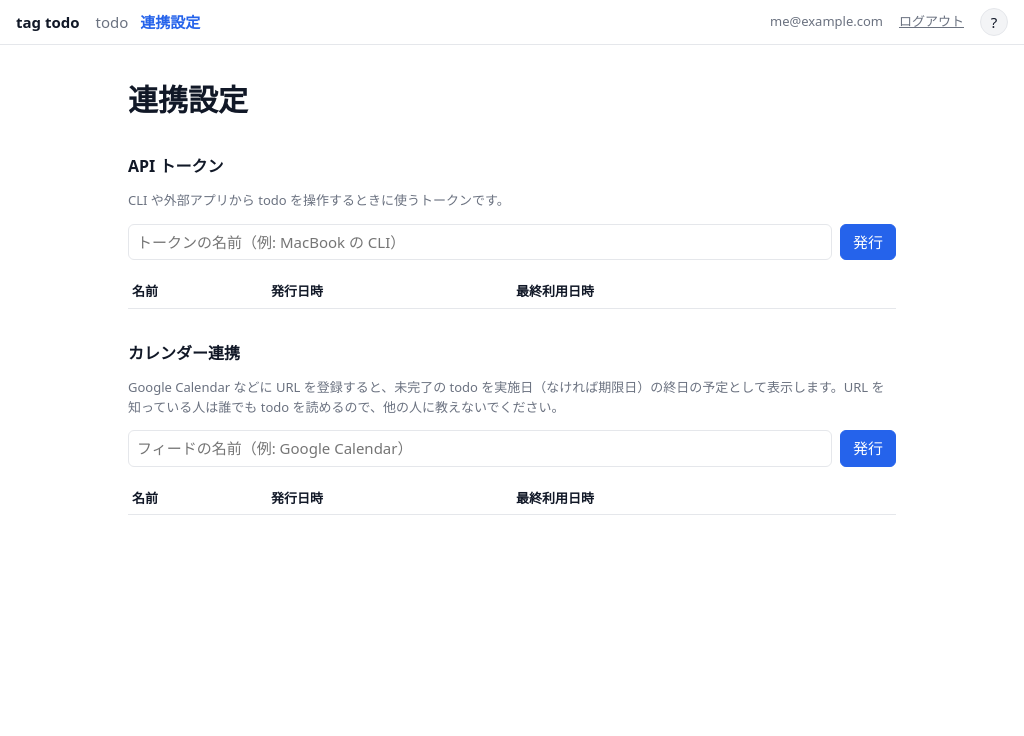
Test case: 連携設定画面の API トークン › 発行したトークンを1回だけ表示し、一覧に追加する
The width and height of the screenshot is (1024, 736).
Type "MacBook" into the field labelled "トークンの名前" at {"x": 480, "y": 242}, box [128,224,832,260]
Then press Enter
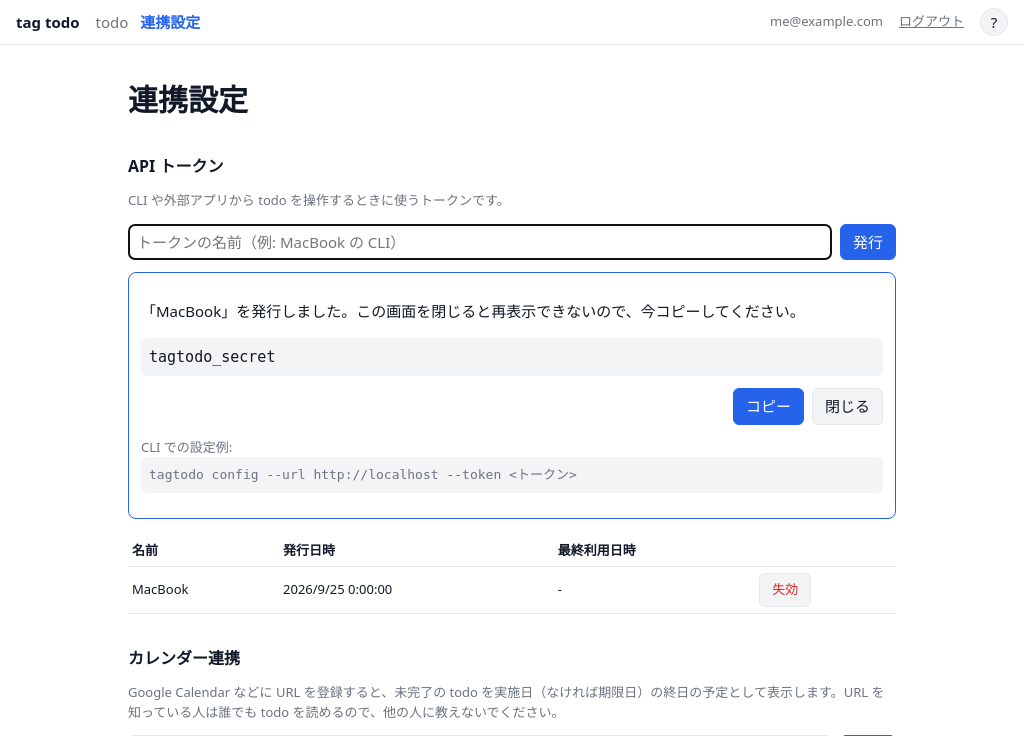
Expected: the text "tagtodo_secret" is shown, [141,338,883,376]
Expected: the cell "MacBook" is shown, [128,567,279,613]
Click the button "閉じる" at {"x": 848, "y": 407}, box [812,388,883,425]
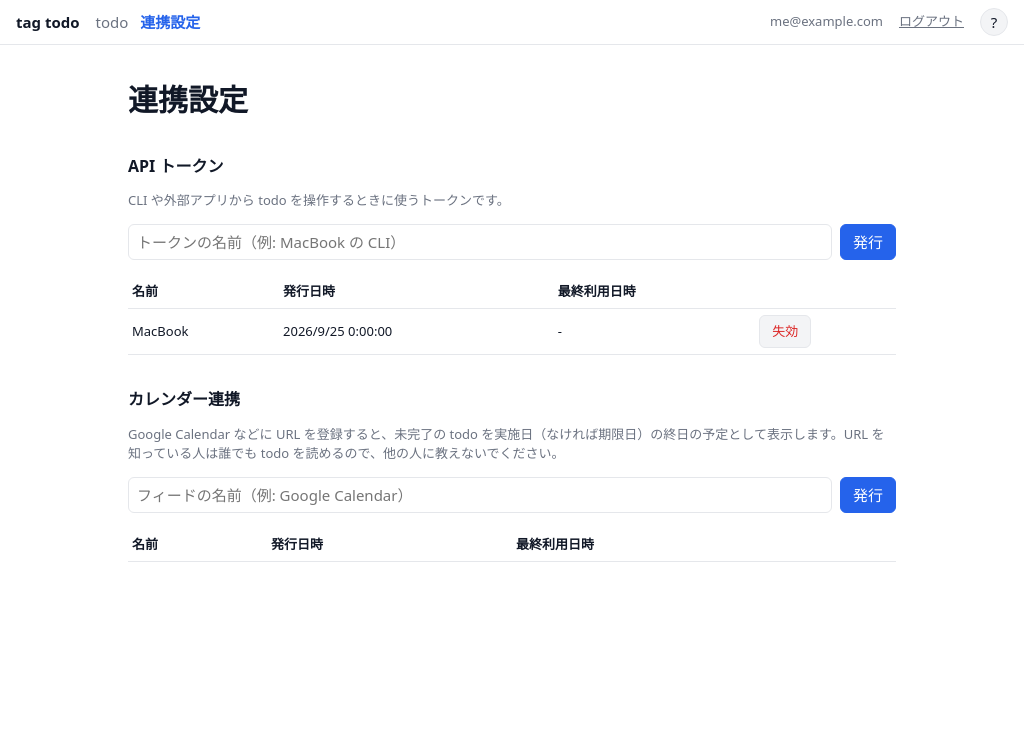
Expected: the text "tagtodo_secret" is gone
